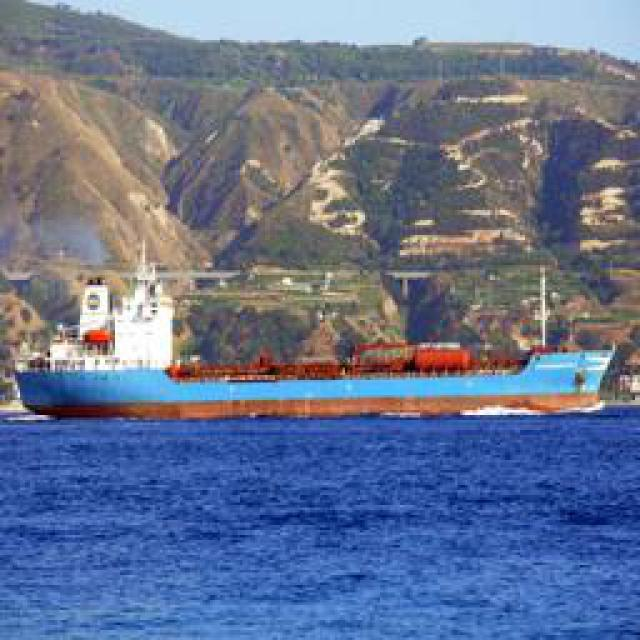Ship: (12, 349, 632, 422)
